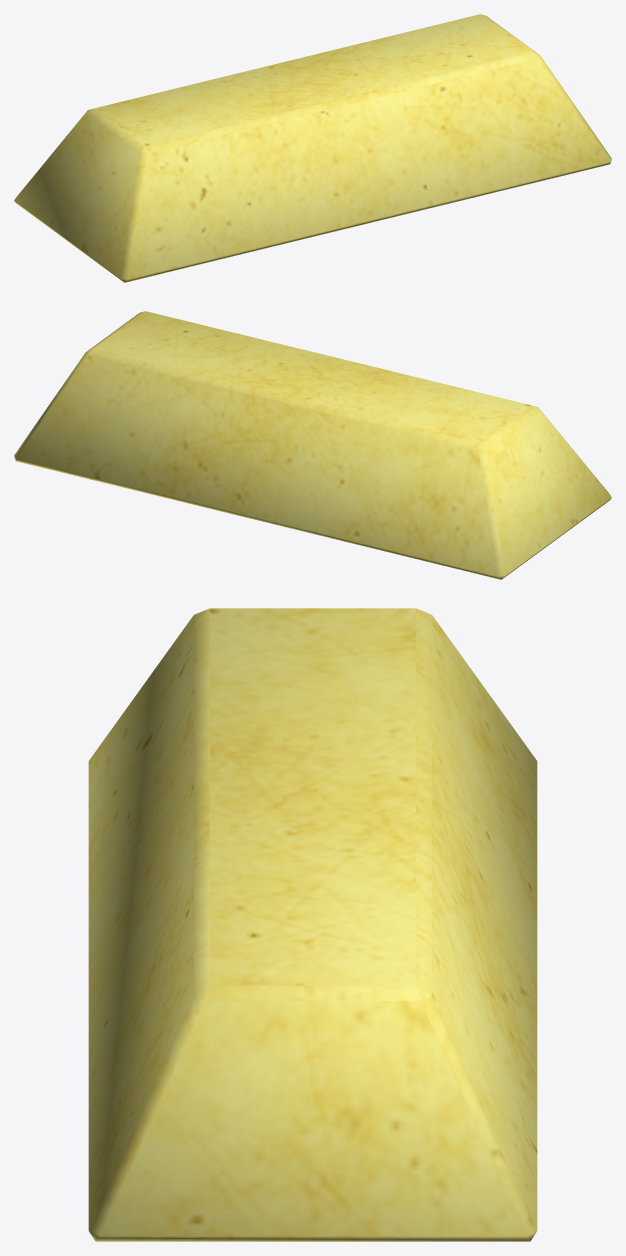
The model's file is Gold Bar.fbx.
3 renders of one model, top to bottom at view 1: azimuth 30°, elevation 25°; view 2: azimuth 150°, elevation 25°; view 3: azimuth 270°, elevation 25°, orthographic. The views are drawn at different scales.
Parts seen in each view (by area): view 1: Gold_Bar; view 2: Gold_Bar; view 3: Gold_Bar.
Boxes of the visible parts, x1=… form: Gold_Bar: x1=14, y1=14, x2=611, y2=282; Gold_Bar: x1=14, y1=311, x2=611, y2=579; Gold_Bar: x1=88, y1=608, x2=537, y2=1241.
Size of the model in its own units: 99.18 by 20 by 39.18.
1 material, 1 textured.
